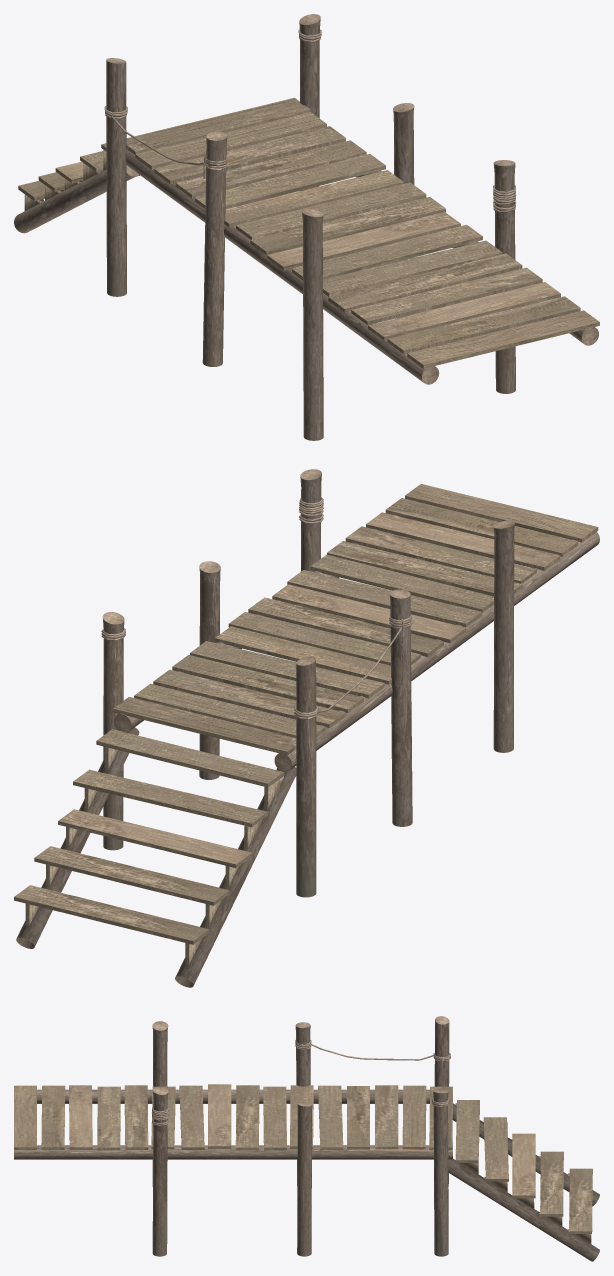
The model's file is Pier.fbx.
The picture shows the model from 3 angles, top to bottom: view 1: azimuth 30°, elevation 25°; view 2: azimuth 150°, elevation 25°; view 3: azimuth 270°, elevation 25°; orthographic projection. The views are drawn at different scales.
Parts seen in each view (by area): view 1: Pier; view 2: Pier; view 3: Pier.
Boxes of the visible parts, x1=… form: Pier: x1=14, y1=14, x2=599, y2=440; Pier: x1=14, y1=469, x2=599, y2=987; Pier: x1=14, y1=1016, x2=599, y2=1261.
Bounding box in the file's own units: 289 × 955 × 327.
